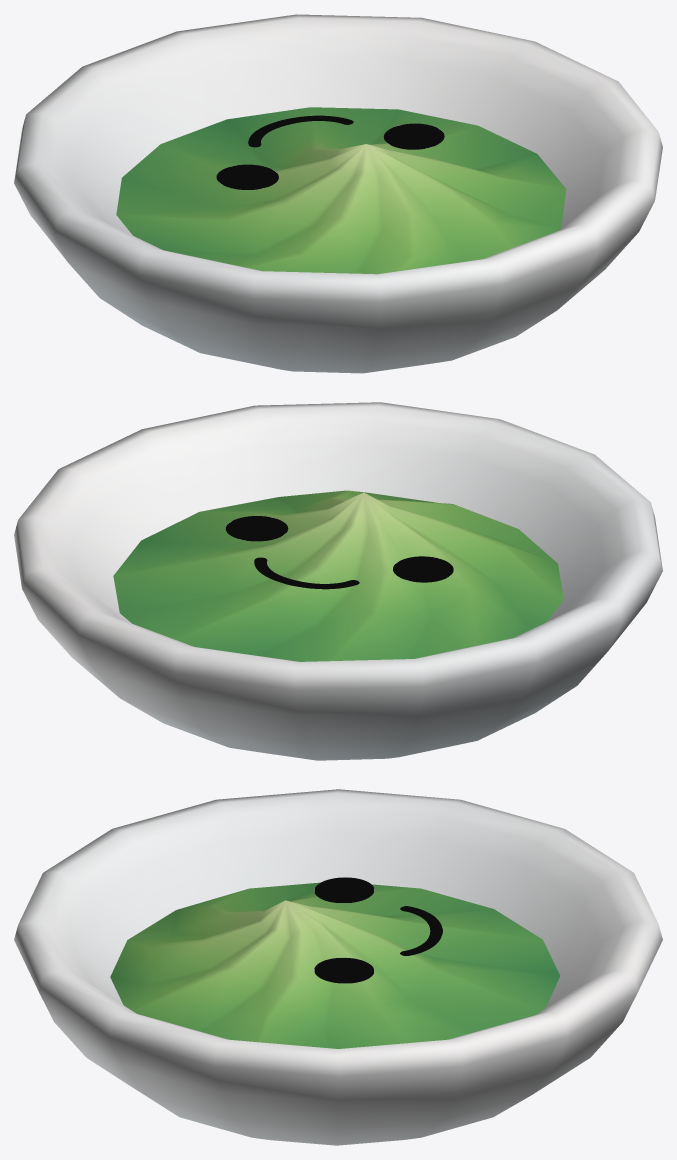
Rendered from sauce_green.fbx.
The picture shows the model from 3 angles, top to bottom: view 1: azimuth 30°, elevation 25°; view 2: azimuth 150°, elevation 25°; view 3: azimuth 270°, elevation 25°; orthographic projection.
Visible parts, largest first — view 1: sauce_green; view 2: sauce_green; view 3: sauce_green.
Boxes of the visible parts, left/top/right/bottom form: sauce_green: left=14, top=14, right=662, bottom=373; sauce_green: left=14, top=402, right=662, bottom=760; sauce_green: left=14, top=789, right=662, bottom=1145.
Size of the model in its own units: 51.33 by 51.33 by 16.72.
